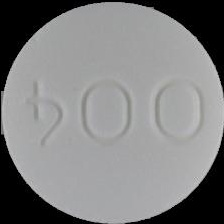49884-658: (0, 0, 224, 224)
